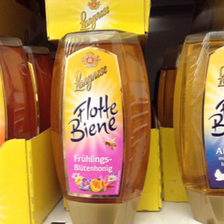honey: (51, 32, 146, 224)
